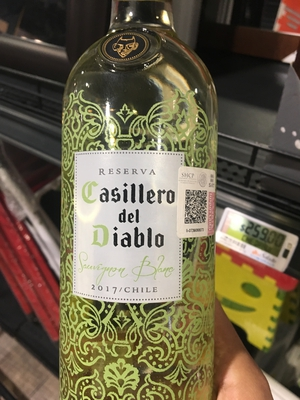casillero del diablo sauvignon blanc: (51, 11, 228, 400)
